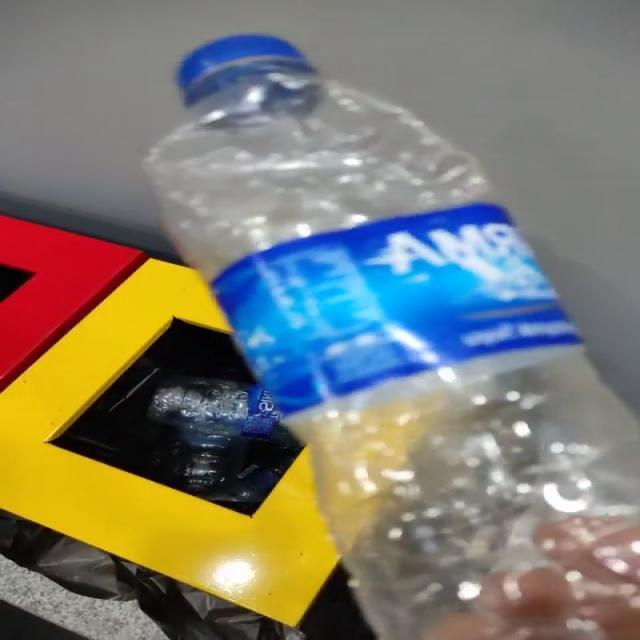Plastic: (144, 36, 637, 640)
